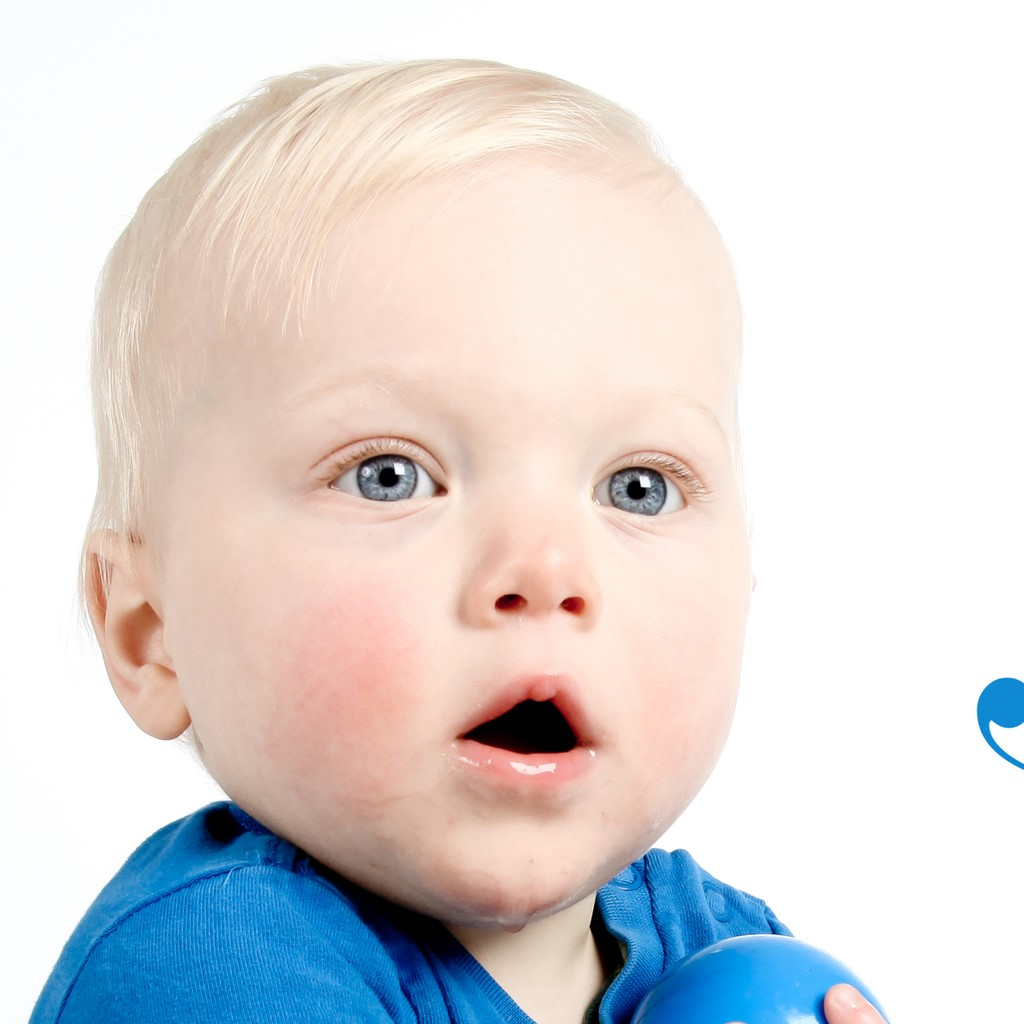sin_mascara: (159, 119, 762, 866)
